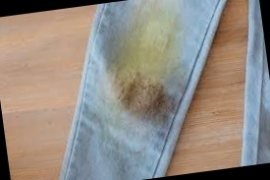earth: (109, 10, 181, 113)
